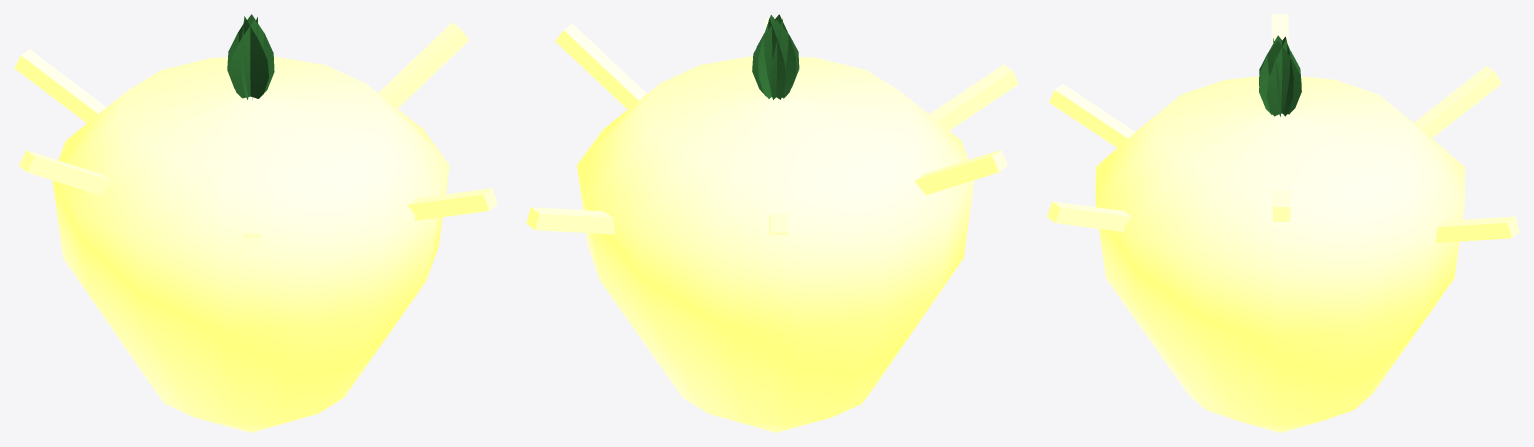
Rendered from fruit-strawberry-shocked.gltf.
3 views of the same model, side by side, from view 1: azimuth 30°, elevation 25°; view 2: azimuth 150°, elevation 25°; view 3: azimuth 270°, elevation 25° (orthographic). The views are drawn at different scales.
Bounding box in the file's own units: 0.3232 × 0.29 × 0.3145.
